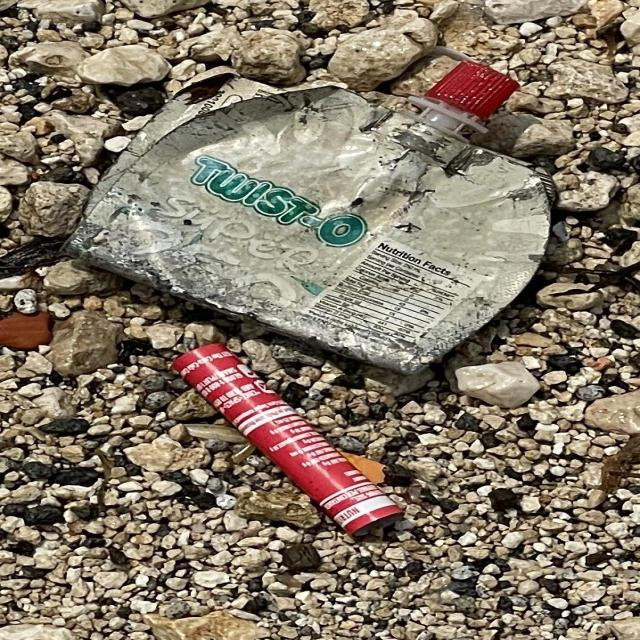plastic_waste: (59, 54, 570, 372), (169, 345, 404, 538)
